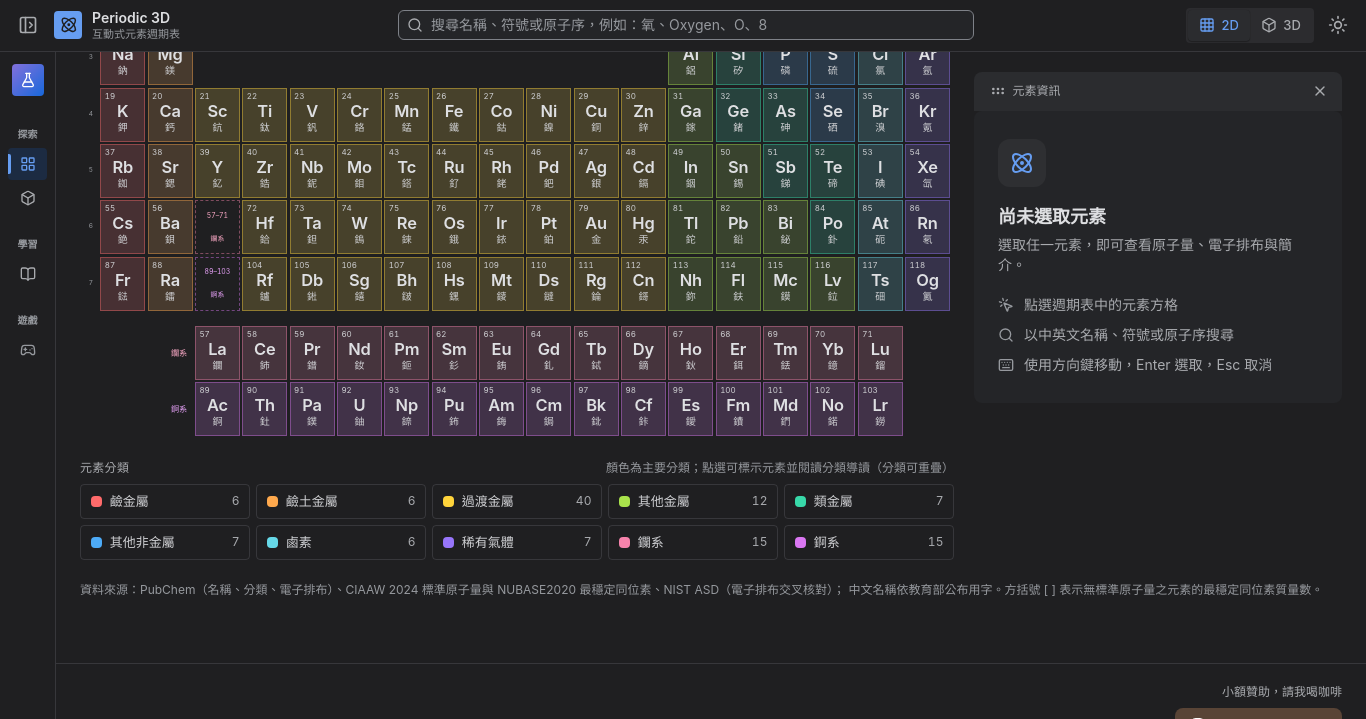
element card browsing › browses only the highlighted category while a filter is active
(page scrolled)
Click the button "稀有氣體 7" at (517, 542), box x1=432 y1=525 x2=602 y2=560
(page scrolled)
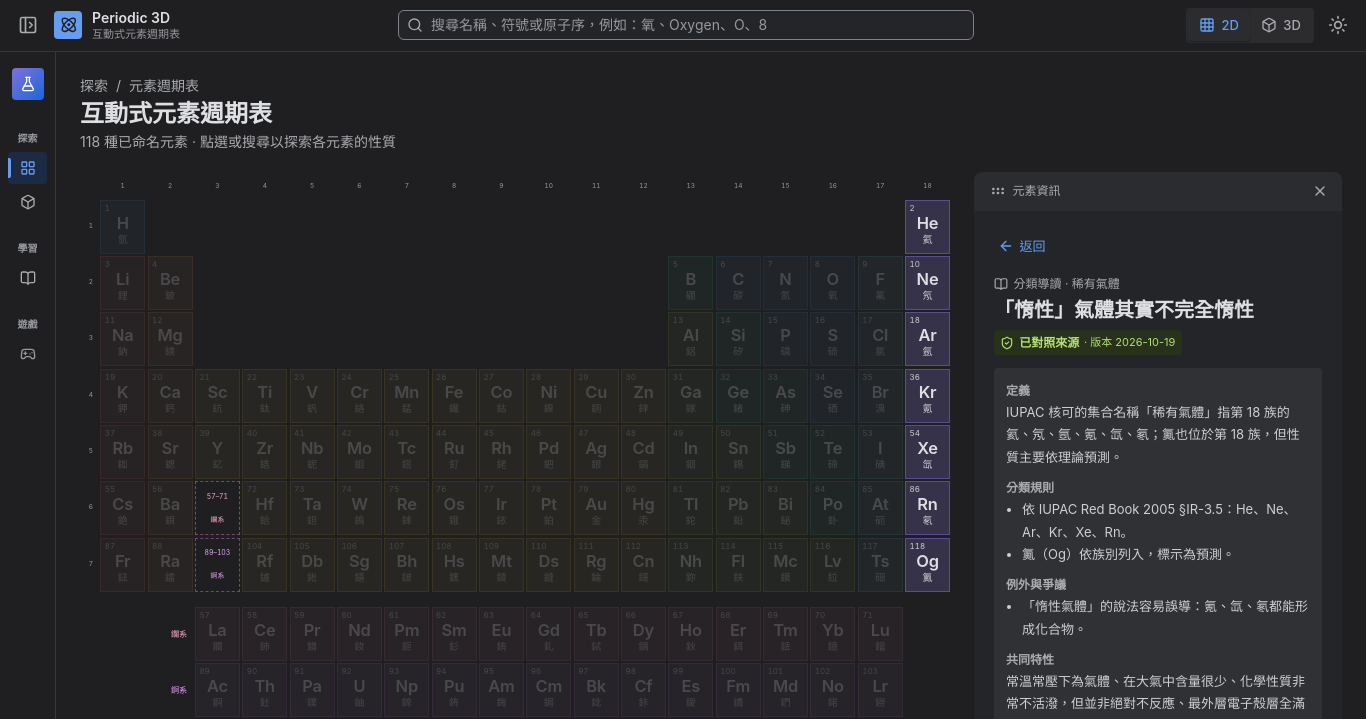
Click the button with aria-label "10 號元素 氖" at (928, 283), box x1=905 y1=256 x2=950 y2=310
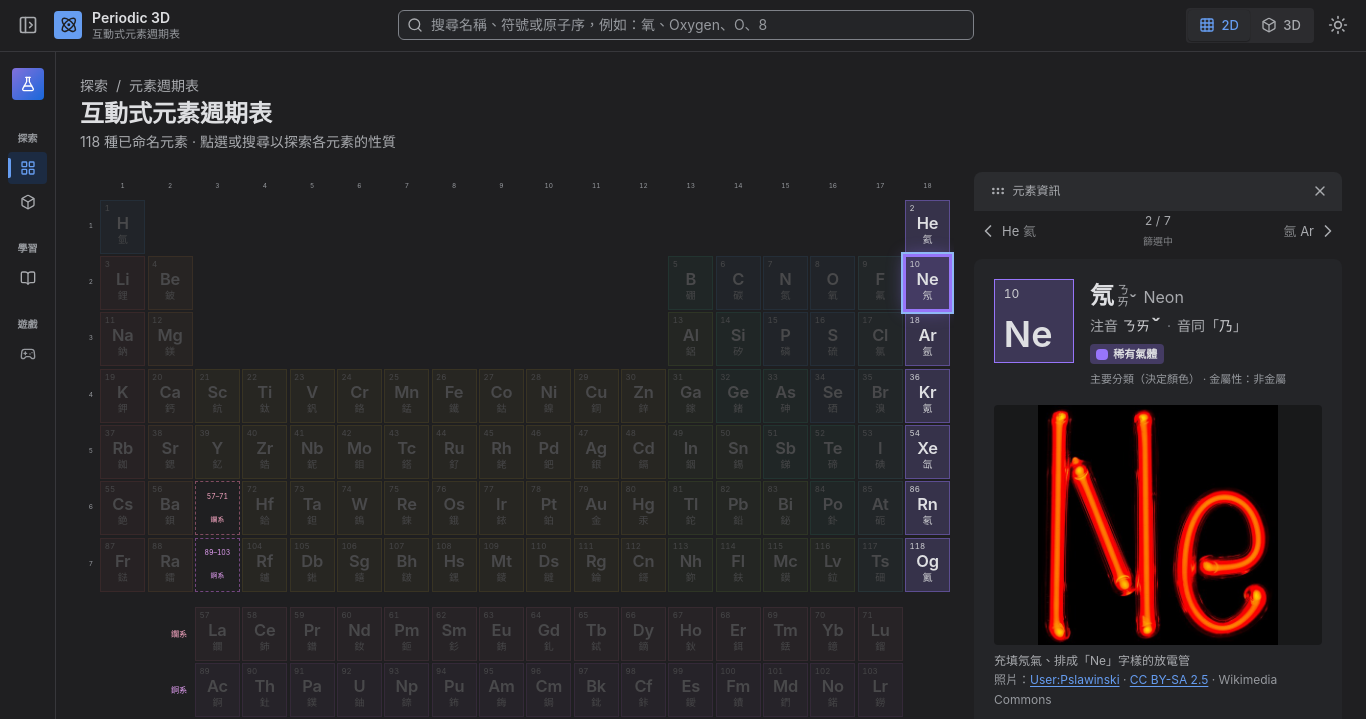
expect the text "2 / 7 篩選中" is shown: met, box x1=1143 y1=211 x2=1173 y2=251
expect the text "篩選中" is shown: met, box x1=1143 y1=231 x2=1173 y2=251
Click the button with aria-label "下一個元素：18 號 氬" at (1309, 231), box x1=1276 y1=211 x2=1342 y2=251
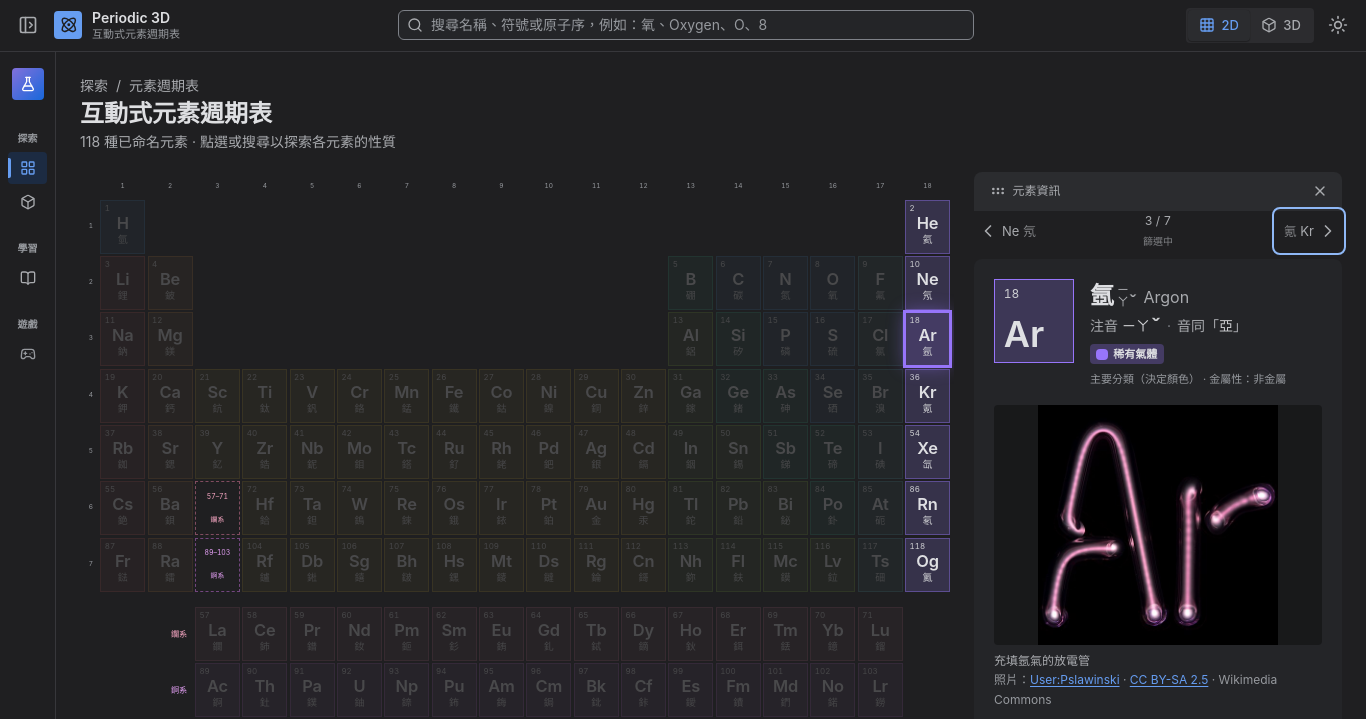
expect the heading with id "details-title" shows "氬": met, box x1=1090 y1=281 x2=1114 y2=310
